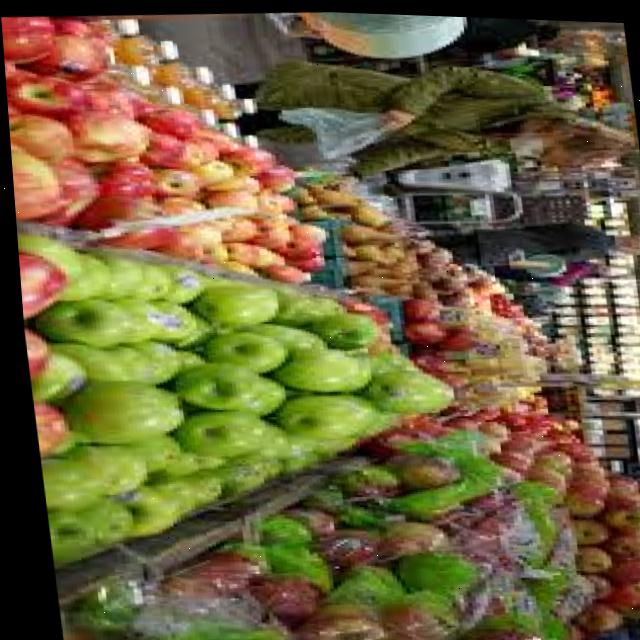Wet: (44, 376, 181, 443), (573, 480, 640, 601), (41, 289, 151, 353), (268, 387, 377, 441), (496, 413, 578, 479), (264, 339, 365, 392), (166, 405, 265, 458), (76, 195, 175, 248), (164, 358, 259, 412), (184, 278, 281, 328), (200, 325, 293, 375), (4, 67, 91, 120), (63, 113, 146, 165), (360, 365, 445, 413), (60, 446, 137, 494), (21, 32, 100, 78), (39, 507, 112, 556), (9, 150, 61, 218), (7, 112, 79, 160), (102, 490, 170, 536), (88, 156, 153, 203), (300, 310, 383, 346), (145, 132, 213, 171), (398, 294, 447, 339), (198, 186, 256, 212), (278, 231, 320, 261)
